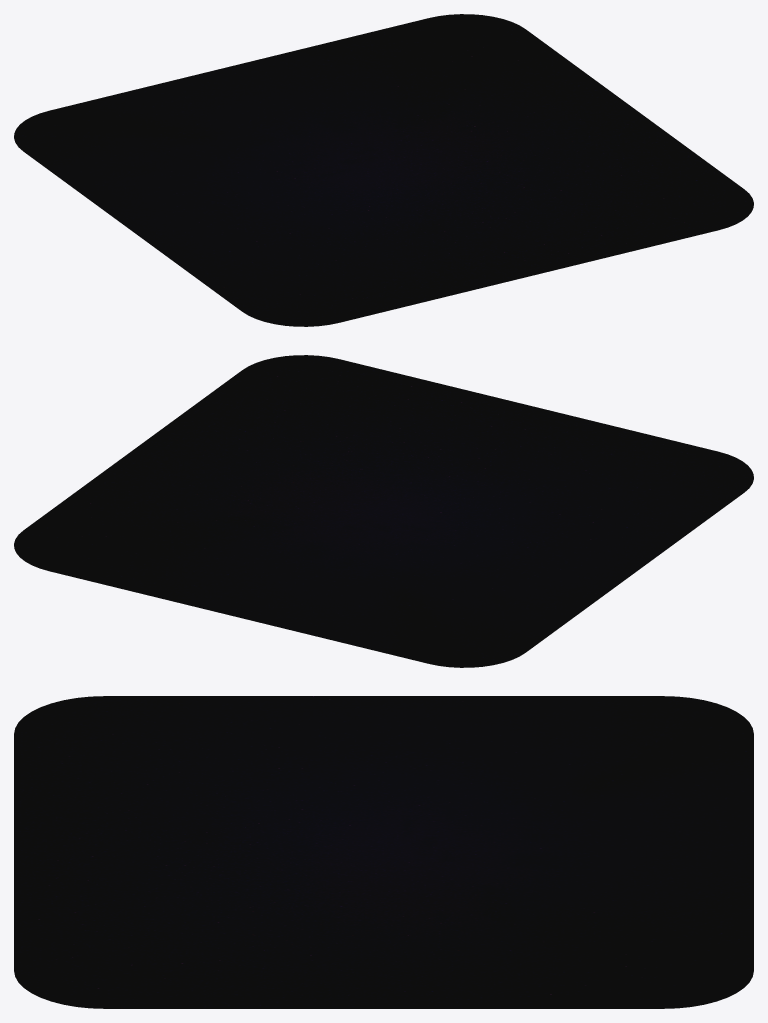
The model's file is dome.glb.
3 views of the same model, one above another, from view 1: azimuth 30°, elevation 25°; view 2: azimuth 150°, elevation 25°; view 3: azimuth 270°, elevation 25° (orthographic). The views are drawn at different scales.
Visible parts, largest first — view 1: dome; view 2: dome; view 3: dome.
Boxes of the visible parts, x1,y1,x2,y2 form: dome: (14, 14, 753, 326); dome: (14, 355, 753, 667); dome: (14, 696, 753, 1008).
Size of the model in its own units: 568 by 0 by 568.
1 material, 1 textured.
